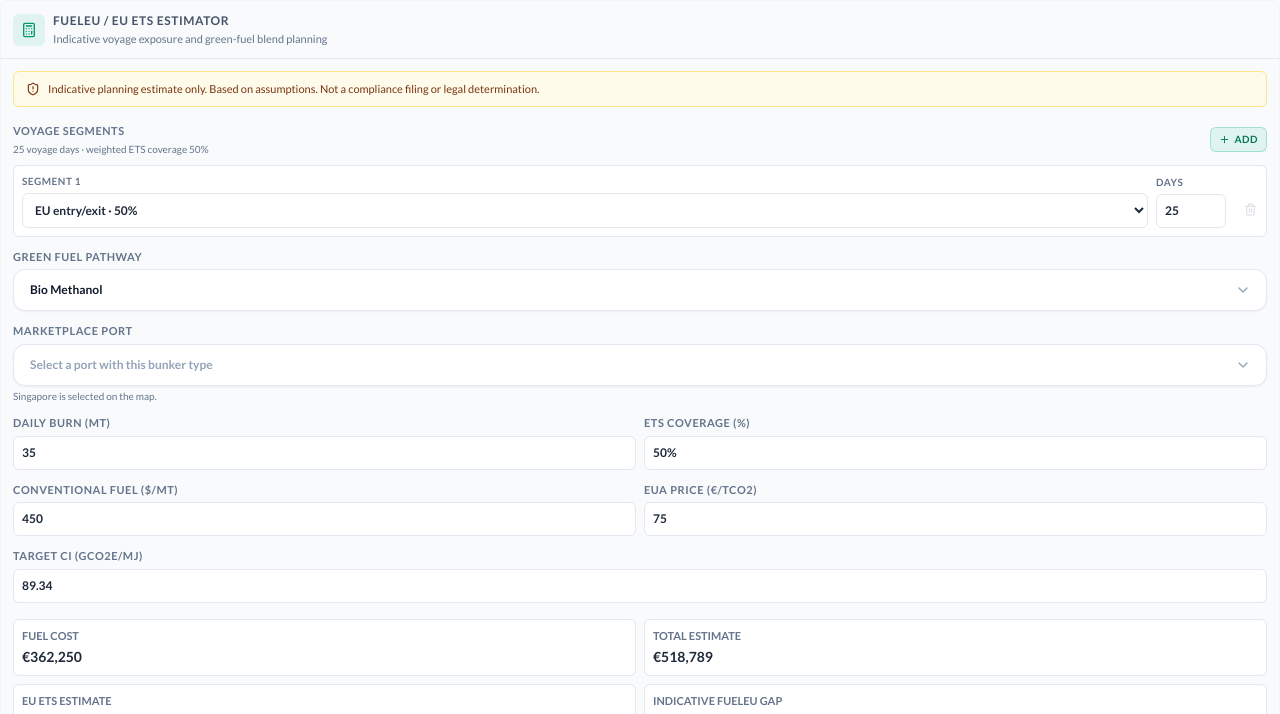
Scenario: ComplianceEstimatorCard › recalculates conventional totals when price and ETS assumptions change
The width and height of the screenshot is (1280, 714).
Replace the text in the number field labelled "Conventional fuel ($/MT)" with "500" at (324, 519), box [13, 502, 636, 536]
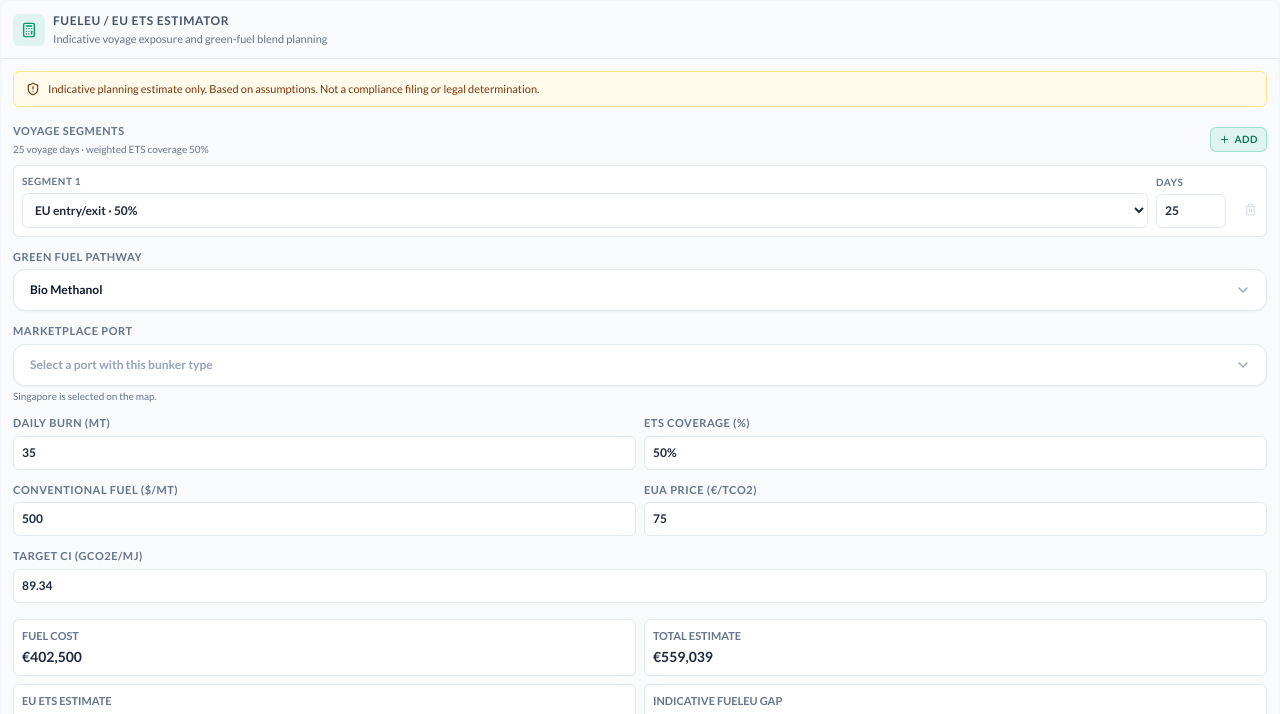
Replace the text in the number field labelled "EUA price (€/tCO2)" with "100" at (956, 519), box [644, 502, 1267, 536]
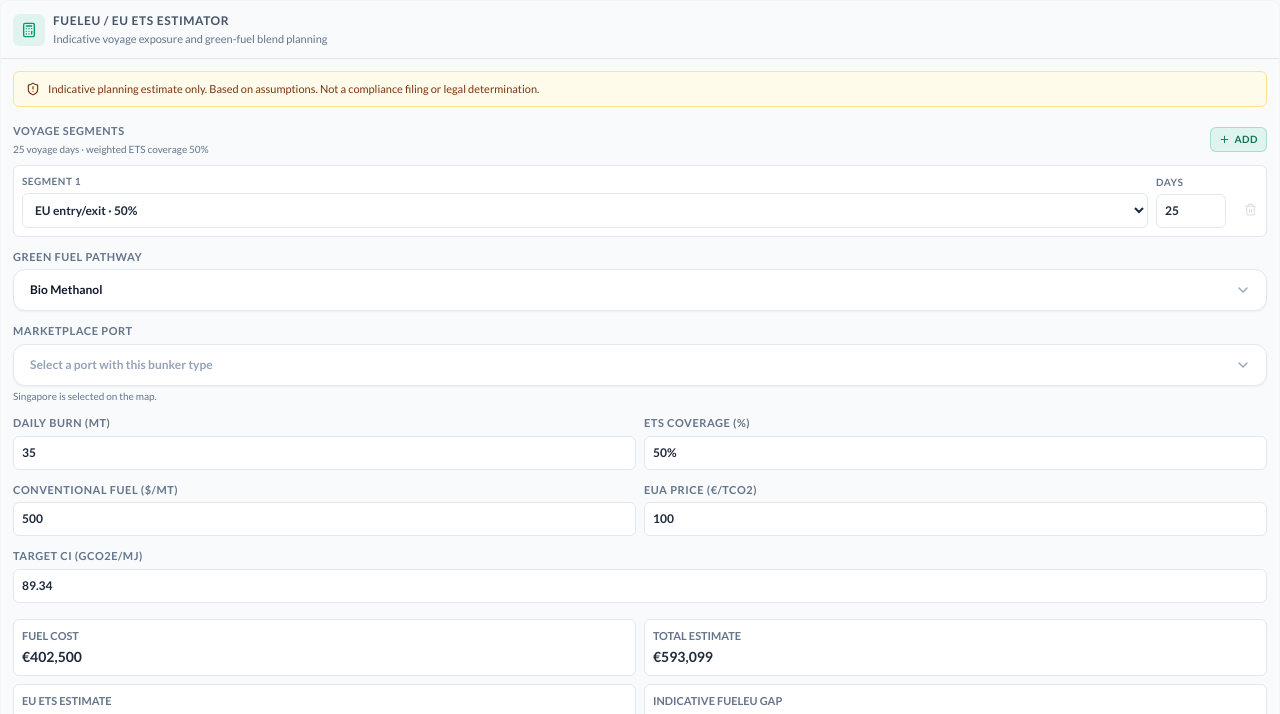
Select "Intra-EU · 100%" in the dropdown labelled "Segment 1" at (585, 210), box [22, 192, 1148, 228]
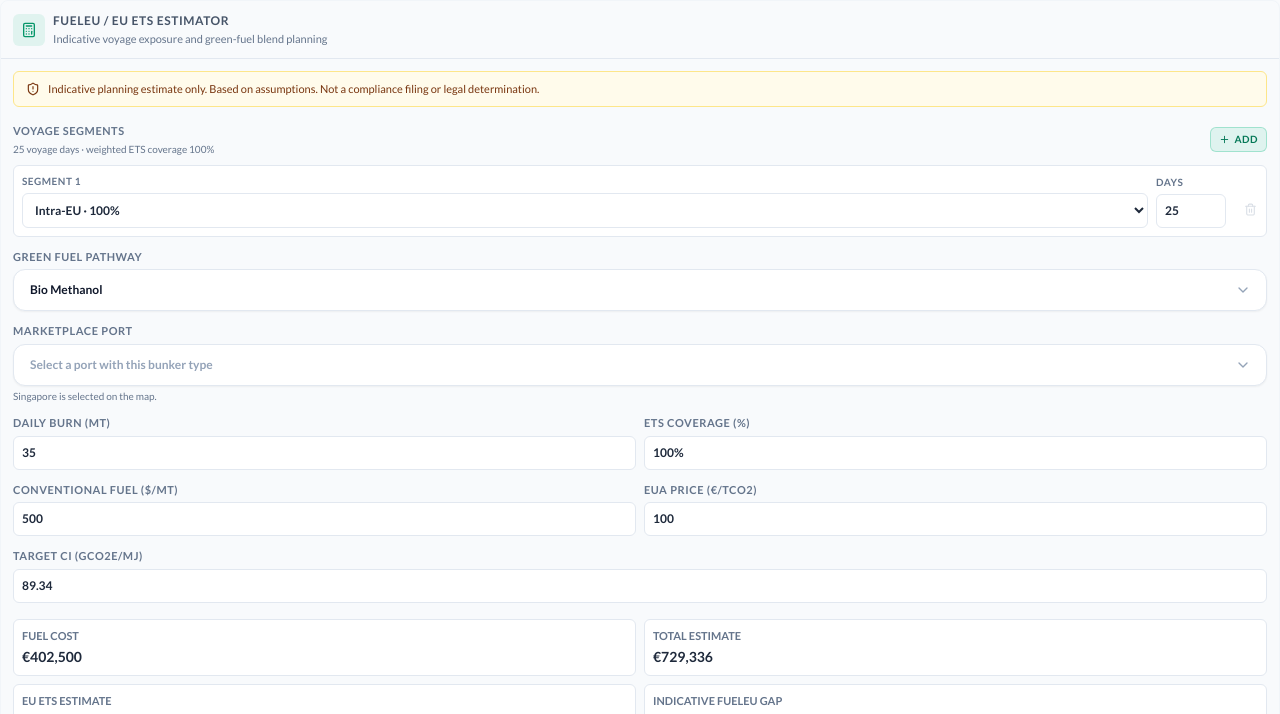
Check: the text "€402,500" is shown, box [22, 648, 82, 665]
Check: the text "25 voyage days · weighted ETS coverage 100%" is shown, box [13, 142, 214, 156]
